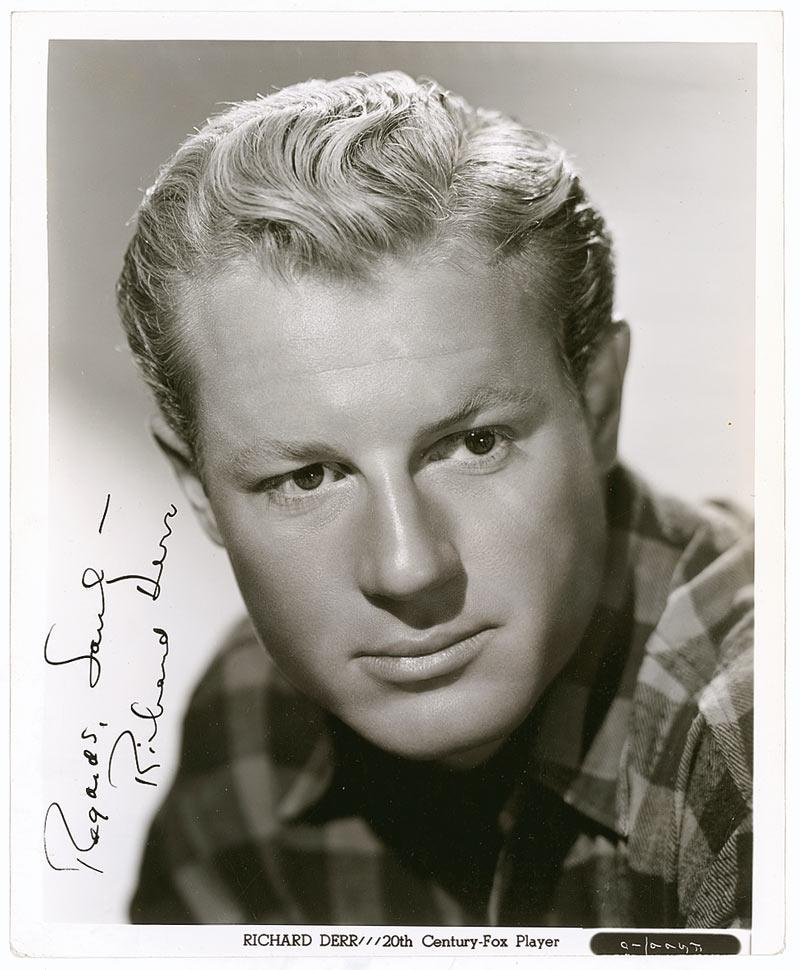bad: (204, 376, 589, 761)
